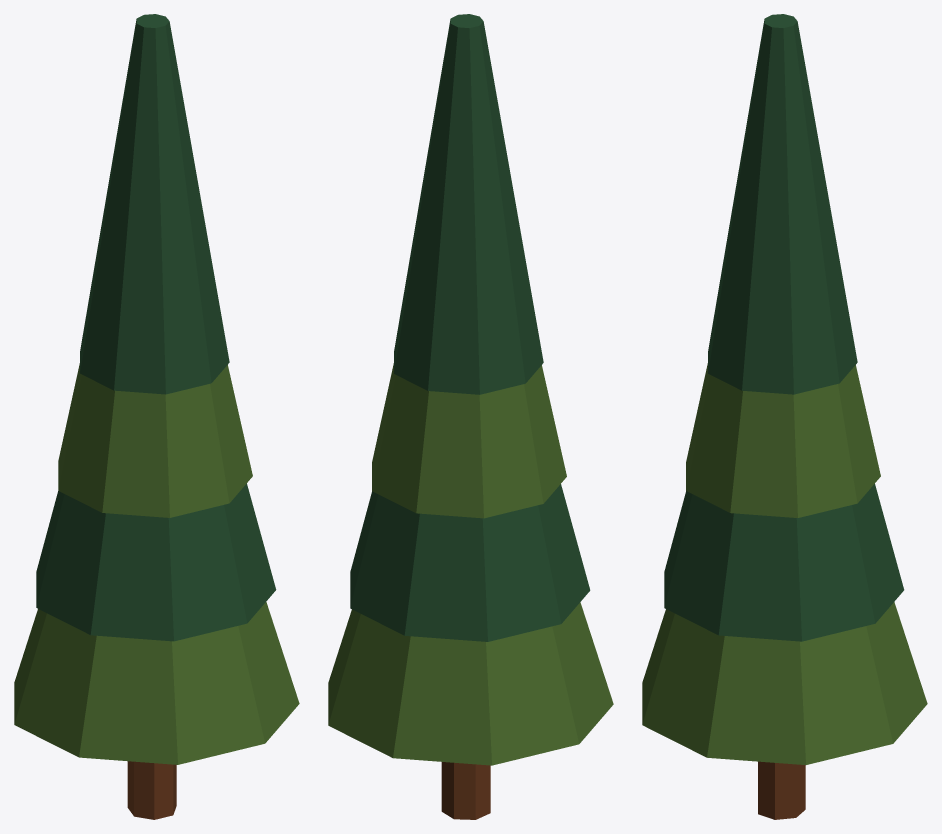
File: cypress.glb
The picture shows the model from 3 angles, left to right: view 1: azimuth 30°, elevation 25°; view 2: azimuth 150°, elevation 25°; view 3: azimuth 270°, elevation 25°; orthographic projection.
Parts seen in each view (by area): view 1: CypressMesh; view 2: CypressMesh; view 3: CypressMesh.
Boxes of the visible parts, x1,y1,x2,y2 form: CypressMesh: (14, 14, 299, 819); CypressMesh: (328, 14, 613, 819); CypressMesh: (642, 14, 927, 819).
Size of the model in its own units: 1.62 by 4.85 by 1.59.
